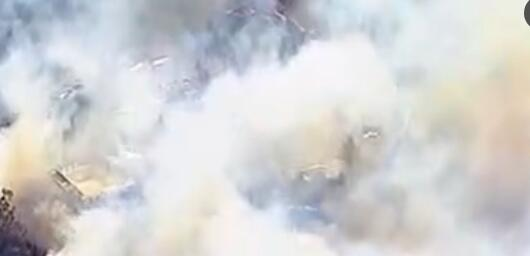smoke: (1, 1, 528, 253)
